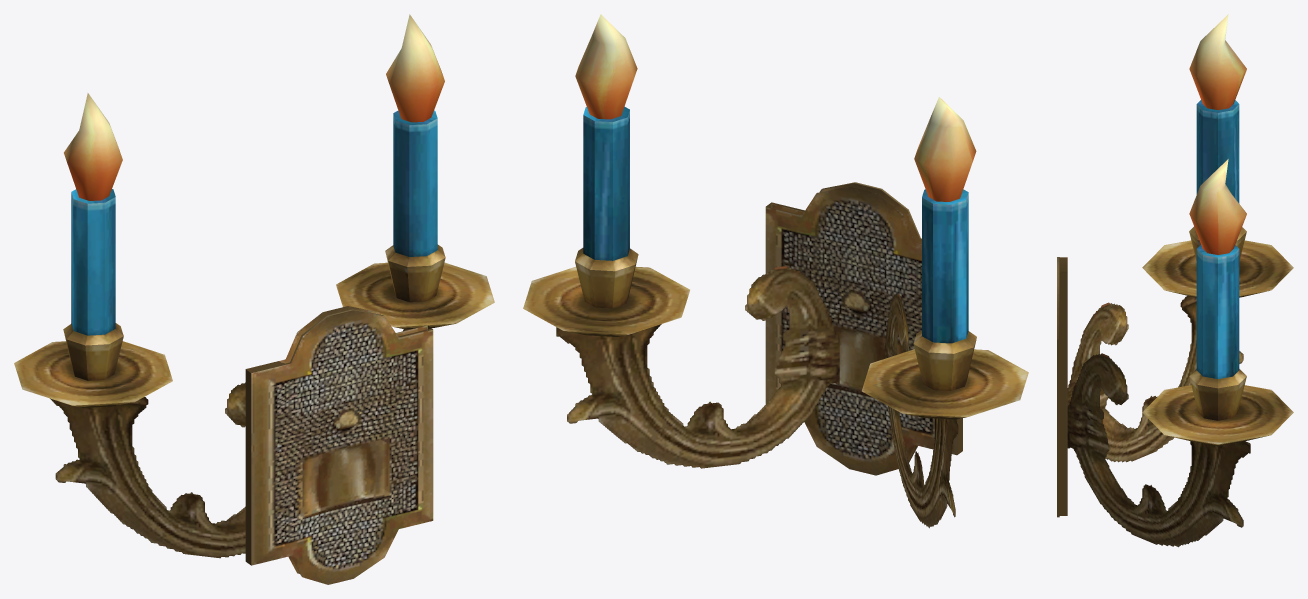
The model's file is furni_0200302_02.FBX.
3 renders of one model, left to right at view 1: azimuth 30°, elevation 25°; view 2: azimuth 150°, elevation 25°; view 3: azimuth 270°, elevation 25°, orthographic. The views are drawn at different scales.
Parts seen in each view (by area): view 1: furni_0200302_02; view 2: furni_0200302_02; view 3: furni_0200302_02.
Part boxes in pixels (x1=…): furni_0200302_02: x1=14, y1=14, x2=494, y2=584; furni_0200302_02: x1=523, y1=14, x2=1028, y2=528; furni_0200302_02: x1=1057, y1=14, x2=1293, y2=547.
Size of the model in its own units: 72.79 by 68.94 by 34.88.
Materials: 1 (1 with a texture image).
